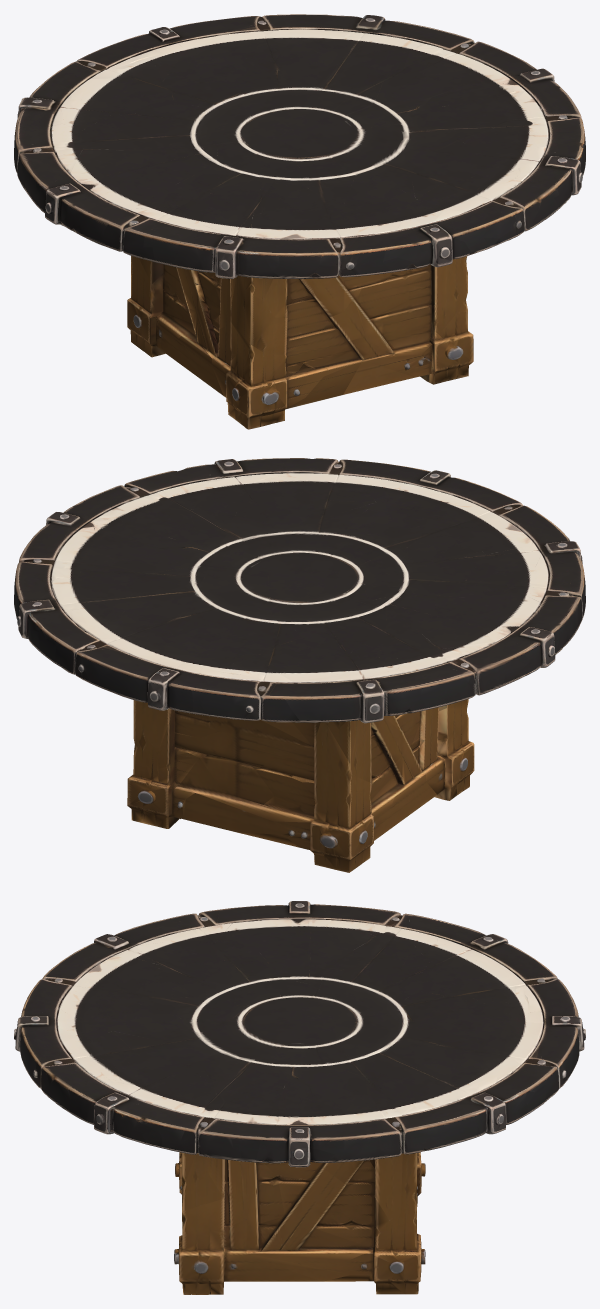
The model's file is table.fbx.
The picture shows the model from 3 angles, top to bottom: view 1: azimuth 30°, elevation 25°; view 2: azimuth 150°, elevation 25°; view 3: azimuth 270°, elevation 25°; orthographic projection. The views are drawn at different scales.
Visible parts, largest first — view 1: Mesh_0; view 2: Mesh_0; view 3: Mesh_0.
Part boxes in pixels (x1,y1,x2,y2): Mesh_0: (14,14,585,429); Mesh_0: (14,458,585,872); Mesh_0: (14,901,585,1294).
Bounding box in the file's own units: 2308 × 1000 × 2308.
Materials: 1 (1 with a texture image).
